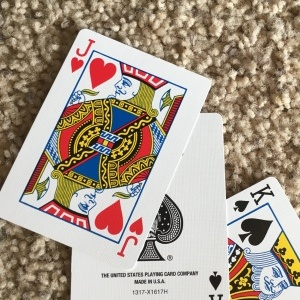card: (1, 29, 214, 271)
